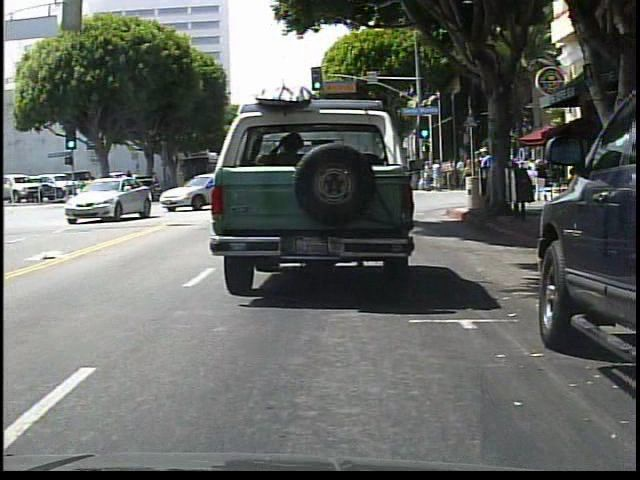person: (506, 152, 525, 220), (478, 147, 494, 207), (524, 164, 541, 206), (534, 159, 549, 203), (447, 159, 458, 192), (433, 159, 444, 192), (422, 161, 432, 193)
